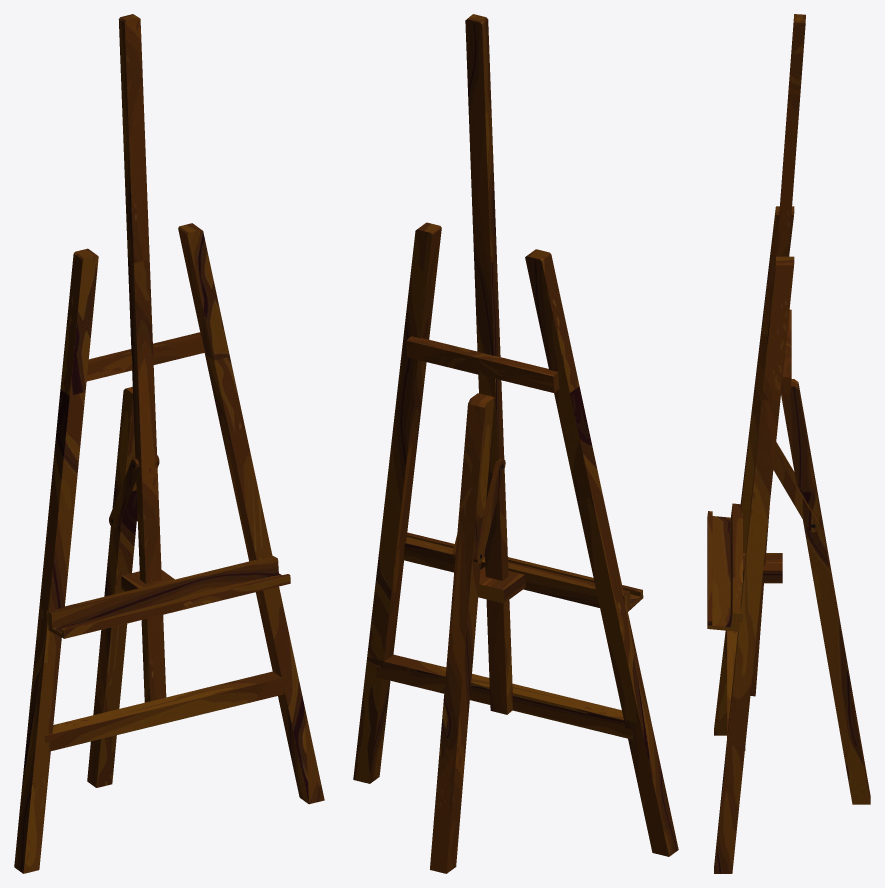
File: painting-easel.glb
The picture shows the model from 3 angles, left to right: view 1: azimuth 30°, elevation 25°; view 2: azimuth 150°, elevation 25°; view 3: azimuth 270°, elevation 25°; orthographic projection. The views are drawn at different scales.
Visible parts, largest first — view 1: painting_easel; view 2: painting_easel; view 3: painting_easel.
Part boxes in pixels (x1,y1,x2,y2): painting_easel: (14, 14, 324, 873); painting_easel: (353, 14, 678, 873); painting_easel: (707, 14, 870, 873).
Bounding box in the file's own units: 2.5 × 6.24 × 1.18.
Materials: 1 (1 with a texture image).
